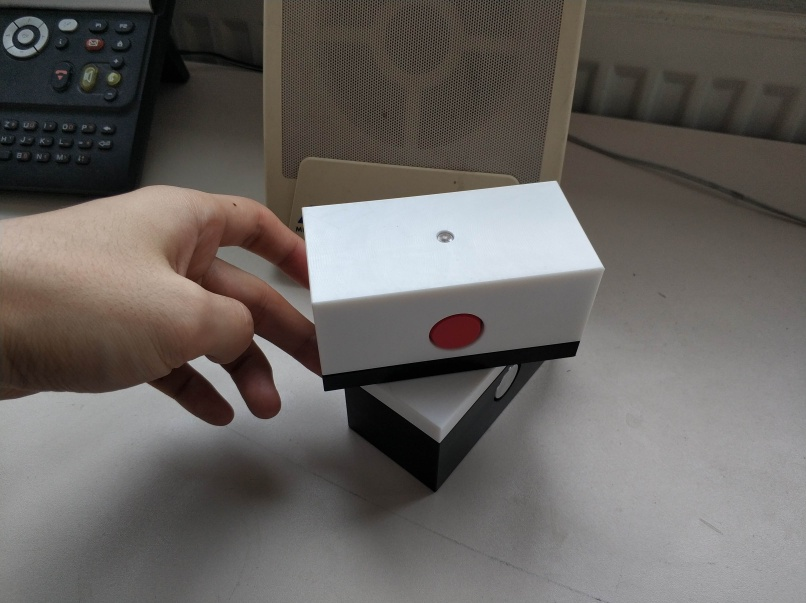black+white+red: (302, 177, 609, 396)
white+black+silver: (342, 358, 552, 498)
